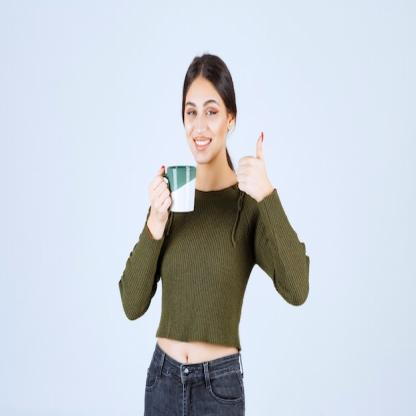thumb_up: (235, 126, 270, 200)
